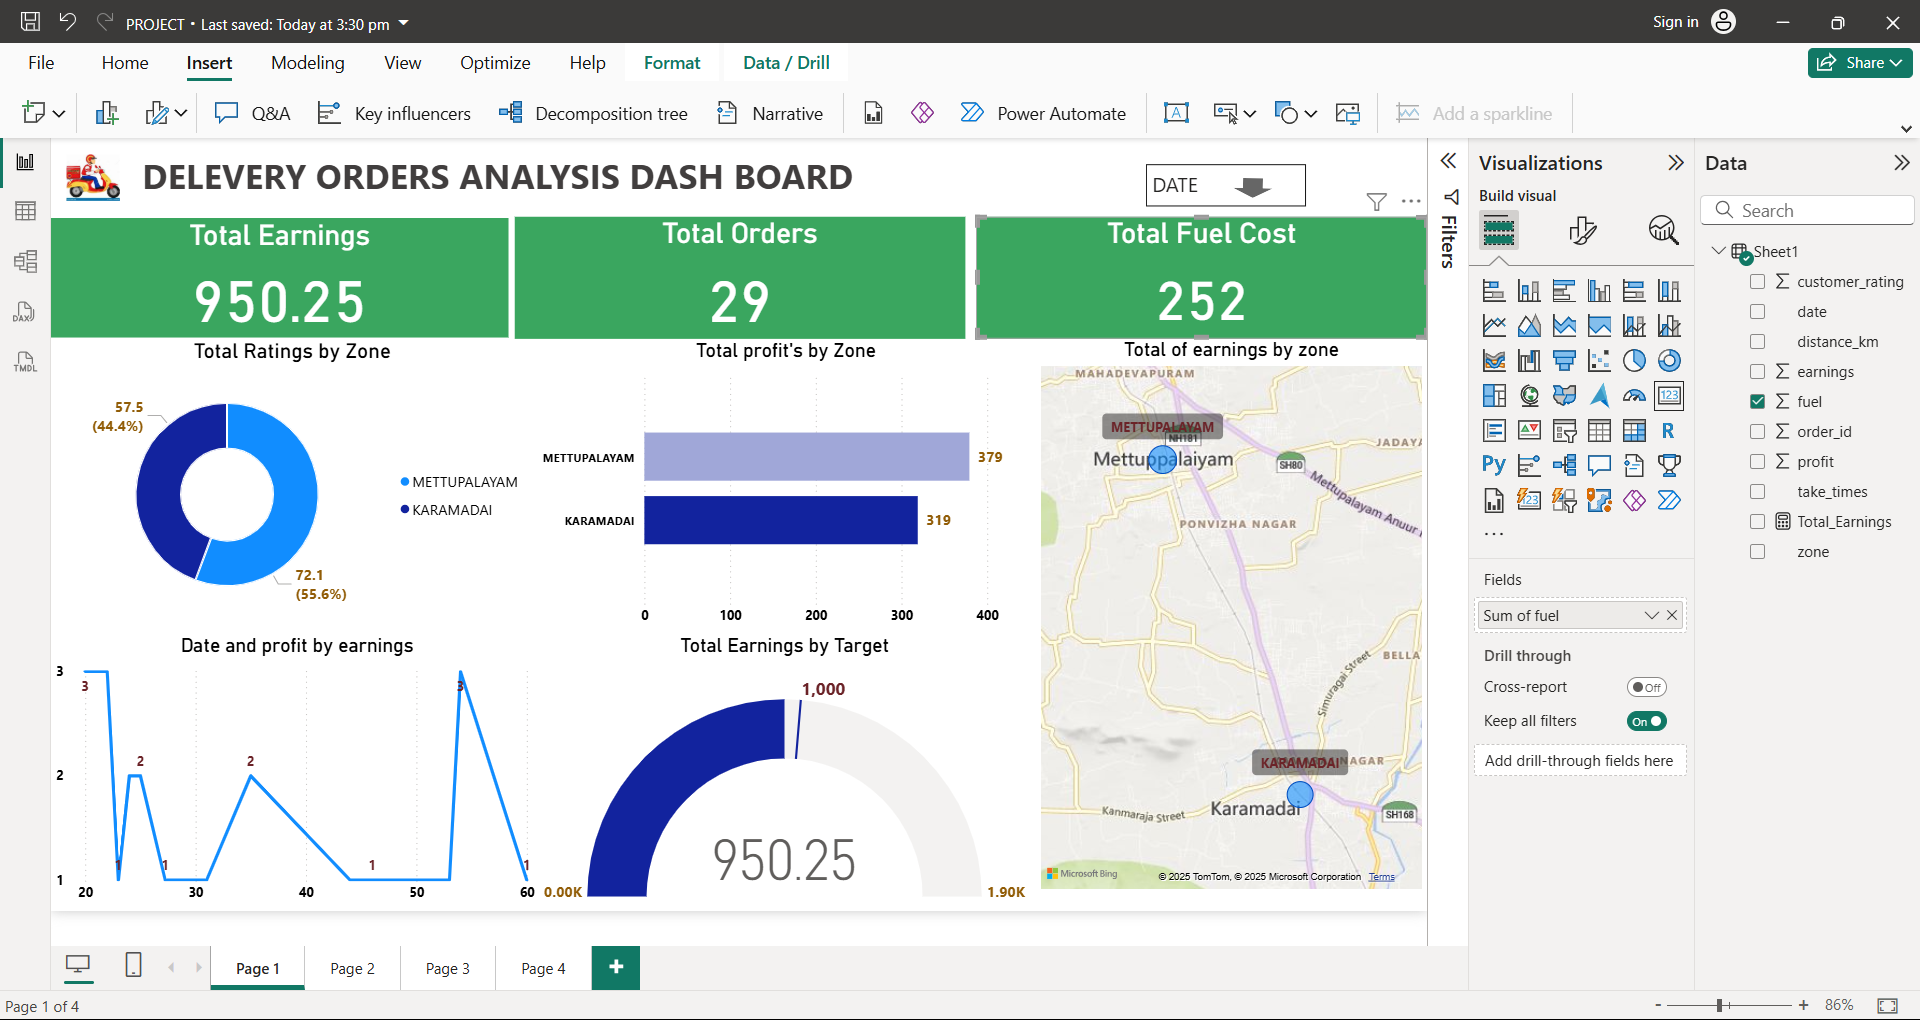

The dashboard page shown, as its layout file describes it:
{"tool":"powerbi","page":{"name":"Page 1","canvas":[1280,720],"ordinal":0},"visuals":[{"type":"textbox","box":[0,0,1280.3,89.2],"z":0},{"type":"image","box":[0,10,77.8,53.3],"z":1000},{"type":"card","title":"Total Earnings","fields":{"Values":["Sum(Sheet1.earnings)"]},"box":[0,74.4,425.6,111.1],"z":2000},{"type":"card","title":"Total Orders","fields":{"Values":["CountNonNull(Sheet1.order_id)"]},"box":[431.1,73.3,418.9,113.3],"z":3000},{"type":"card","title":"Total Fuel Cost","fields":{"Values":["Sum(Sheet1.fuel)"]},"box":[860,73.3,420,113.3],"z":4000},{"type":"barChart","title":"Total profit''s by Zone","fields":{"Category":["Sheet1.zone"],"Y":["Sum(Sheet1.profit)"]},"box":[451.2,187.2,465.1,275.6],"z":5000},{"type":"donutChart","title":"Total Ratings by Zone","fields":{"Y":["Sum(Sheet1.customer_rating)"],"Category":["Sheet1.zone"]},"box":[0,186.7,448.9,267.8],"z":6000},{"type":"lineChart","title":" Date and  profit by earnings","fields":{"Category":["Sheet1.earnings"],"Y":["Count(Sheet1.profit)"]},"box":[0,461.1,457.8,258.9],"z":7000},{"type":"map","title":"Total of earnings by zone","fields":{"Size":["Sum(Sheet1.earnings)"],"Category":["Sheet1.zone"]},"box":[916.3,186,364,517.4],"z":8000},{"type":"gauge","title":"Total Earnings by Target","fields":{"Y":["Sum(Sheet1.earnings)"],"TargetValue":["Sheet1.Total_Earnings"]},"box":[448.8,461.6,467.4,258.1],"z":9000},{"type":"textbox","box":[1018.6,24.4,148.8,39.5],"z":10000},{"type":"shape","box":[1098.8,37.2,38.4,18.6],"z":11000}]}

Visuals, with their boxes on the page's 1280x720 design canvas (x1, y1, x2, y2). These are canvas units, not pixel positions in the 1920x1020 screenshot, which may show the page scaled, cropped or inside an application window:
textbox: <bbox>0, 0, 1280, 89</bbox>
image: <bbox>0, 10, 78, 63</bbox>
"Total Earnings" card: <bbox>0, 74, 426, 186</bbox>
"Total Orders" card: <bbox>431, 73, 850, 187</bbox>
"Total Fuel Cost" card: <bbox>860, 73, 1280, 187</bbox>
"Total profit''s by Zone" barChart: <bbox>451, 187, 916, 463</bbox>
"Total Ratings by Zone" donutChart: <bbox>0, 187, 449, 454</bbox>
" Date and  profit by earnings" lineChart: <bbox>0, 461, 458, 720</bbox>
"Total of earnings by zone" map: <bbox>916, 186, 1280, 703</bbox>
"Total Earnings by Target" gauge: <bbox>449, 462, 916, 720</bbox>
textbox: <bbox>1019, 24, 1167, 64</bbox>
shape: <bbox>1099, 37, 1137, 56</bbox>
